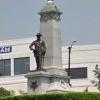Statue: (22, 27, 55, 72)
